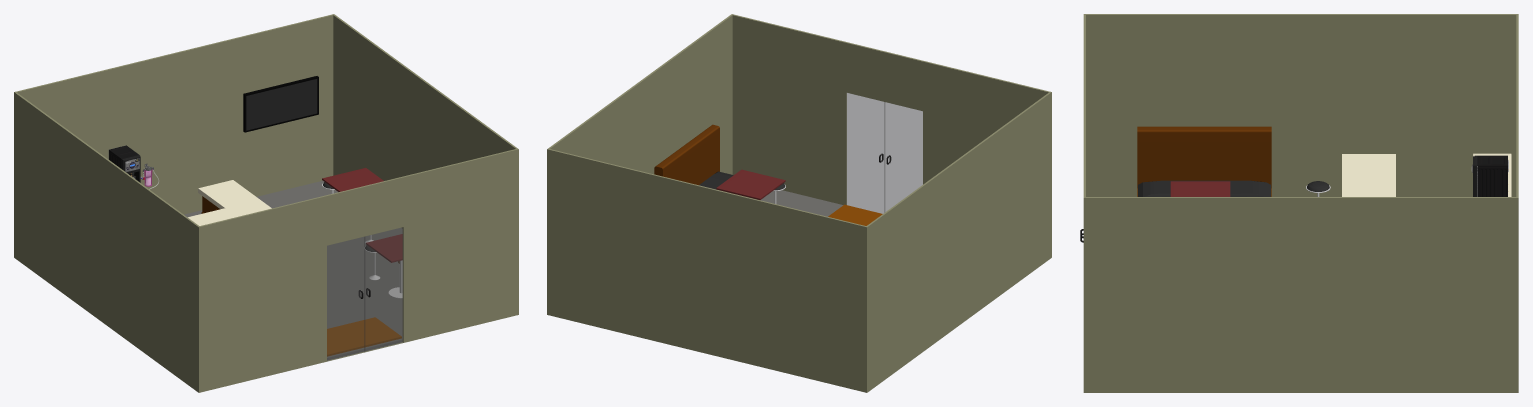
Rendered from TurinEscene.glb.
The picture shows the model from 3 angles, left to right: view 1: azimuth 30°, elevation 25°; view 2: azimuth 150°, elevation 25°; view 3: azimuth 270°, elevation 25°; orthographic projection. The views are drawn at different scales.
Parts seen in each view (by area): view 1: polySurface62, pared1, pared4, polySurface63, polySurface75, polySurface57, polySurface56, polySurface78, pared3, polySurface55, polySurface46.002, polySurface46.003 (+1 smaller); view 2: pared1, pared4, polySurface62, polySurface63, polySurface57, polySurface56, polySurface93, polySurface46.002, polySurface75, polySurface55; view 3: polySurface63, pared4, polySurface38, pared3, polySurface39, CajaP, pared1, polySurface62, polySurface46.001.
Boxes of the visible parts, bbox=[...] form: polySurface62: bbox=[198, 148, 518, 392]; pared1: bbox=[14, 14, 334, 257]; pared4: bbox=[15, 92, 199, 391]; polySurface63: bbox=[333, 15, 517, 228]; polySurface75: bbox=[184, 180, 402, 360]; polySurface57: bbox=[364, 227, 403, 351]; polySurface56: bbox=[327, 236, 364, 361]; polySurface78: bbox=[246, 79, 317, 130]; pared3: bbox=[188, 180, 271, 225]; polySurface55: bbox=[327, 317, 401, 356]; polySurface46.002: bbox=[366, 234, 402, 298]; polySurface46.003: bbox=[322, 168, 383, 191]; pared1: bbox=[547, 148, 867, 392]; pared4: bbox=[866, 92, 1050, 391]; polySurface62: bbox=[731, 14, 1051, 257]; polySurface63: bbox=[548, 15, 732, 174]; polySurface57: bbox=[846, 93, 884, 213]; polySurface56: bbox=[884, 102, 922, 212]; polySurface93: bbox=[654, 124, 719, 185]; polySurface46.002: bbox=[716, 169, 785, 199]; polySurface75: bbox=[760, 190, 843, 216]; polySurface55: bbox=[828, 204, 882, 225]; polySurface63: bbox=[1086, 197, 1516, 392]; pared4: bbox=[1086, 14, 1516, 196]; polySurface38: bbox=[1137, 126, 1271, 196]; pared3: bbox=[1342, 154, 1395, 196]; polySurface39: bbox=[1138, 180, 1270, 196]; CajaP: bbox=[1477, 155, 1507, 196]; pared1: bbox=[1516, 14, 1518, 392]; polySurface62: bbox=[1083, 14, 1085, 392]; polySurface46.001: bbox=[1170, 181, 1230, 196].
Bounding box in the file's own units: 75.88 × 37.52 × 76.47.
Materials: 46 (3 with a texture image).
